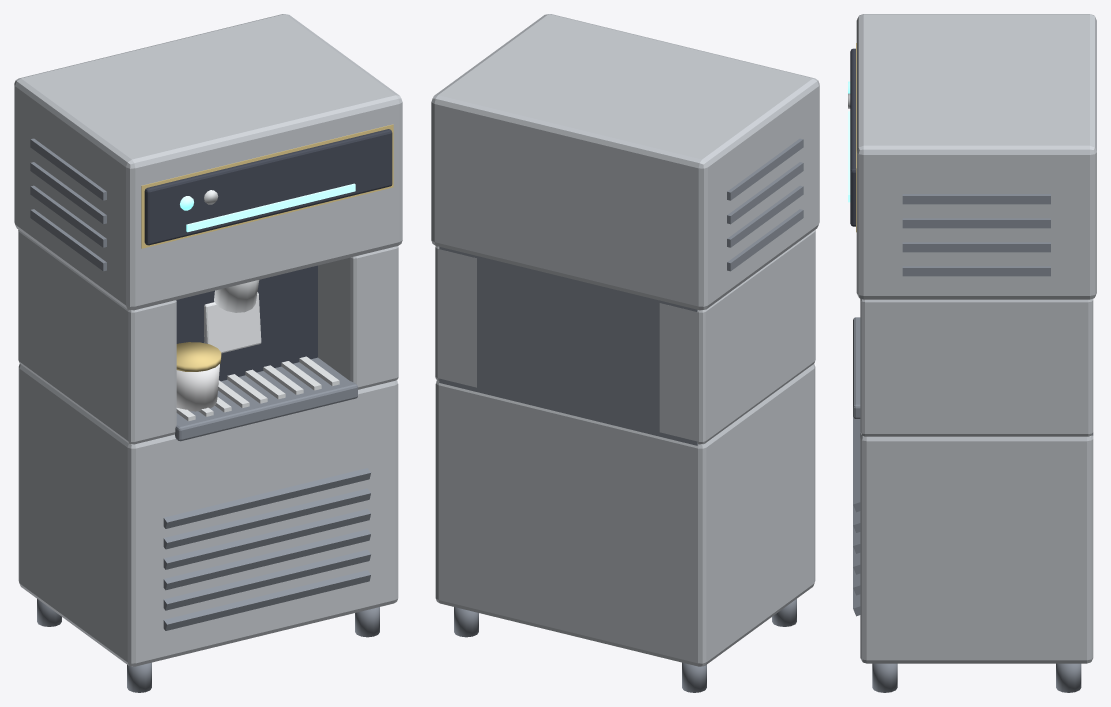
File: hotel_ice_machine.glb
The picture shows the model from 3 angles, left to right: view 1: azimuth 30°, elevation 25°; view 2: azimuth 150°, elevation 25°; view 3: azimuth 270°, elevation 25°; orthographic projection.
Parts seen in each view (by area): view 1: Foot_-0.38_-0.26; view 2: Foot_-0.38_-0.26; view 3: Foot_-0.38_-0.26.
Part boxes in pixels (x1,y1,x2,y2): Foot_-0.38_-0.26: (14, 14, 402, 692); Foot_-0.38_-0.26: (431, 14, 819, 692); Foot_-0.38_-0.26: (848, 14, 1096, 692).
Bounding box in the file's own units: 0.944 × 1.72 × 0.7045.
